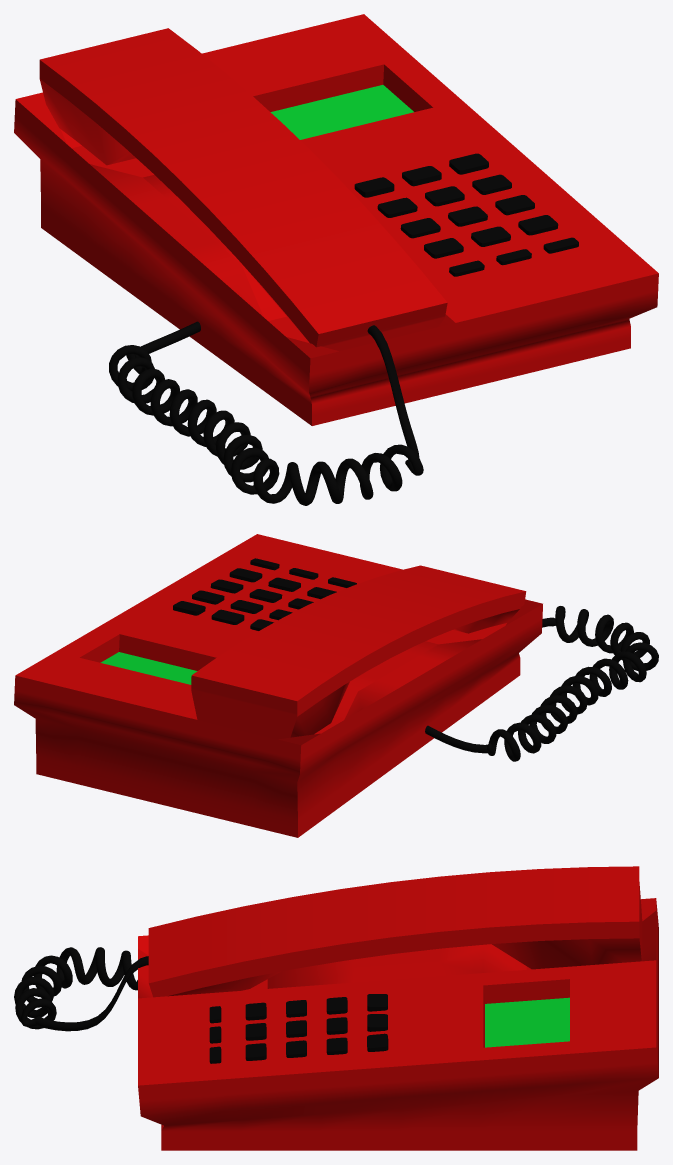
The model's file is phone.glb.
The picture shows the model from 3 angles, top to bottom: view 1: azimuth 30°, elevation 25°; view 2: azimuth 150°, elevation 25°; view 3: azimuth 270°, elevation 25°; orthographic projection. The views are drawn at different scales.
Visible parts, largest first — view 1: pCube1.19, pCube17.14, nurbsToPoly1.10; view 2: pCube1.19, pCube17.14, nurbsToPoly1.10; view 3: pCube1.19, pCube17.14, nurbsToPoly1.10.
Boxes of the visible parts, x1=… form: pCube1.19: x1=14, y1=14, x2=658, y2=425; pCube17.14: x1=39, y1=28, x2=447, y2=351; nurbsToPoly1.10: x1=109, y1=321, x2=423, y2=505; pCube1.19: x1=14, y1=534, x2=542, y2=837; pCube17.14: x1=191, y1=565, x2=526, y2=739; nurbsToPoly1.10: x1=425, y1=606, x2=658, y2=761; pCube1.19: x1=138, y1=898, x2=658, y2=1150; pCube17.14: x1=148, y1=866, x2=642, y2=997; nurbsToPoly1.10: x1=14, y1=947, x2=148, y2=1031.
Bounding box in the file's own units: 7.5 × 2.88 × 10.58.
